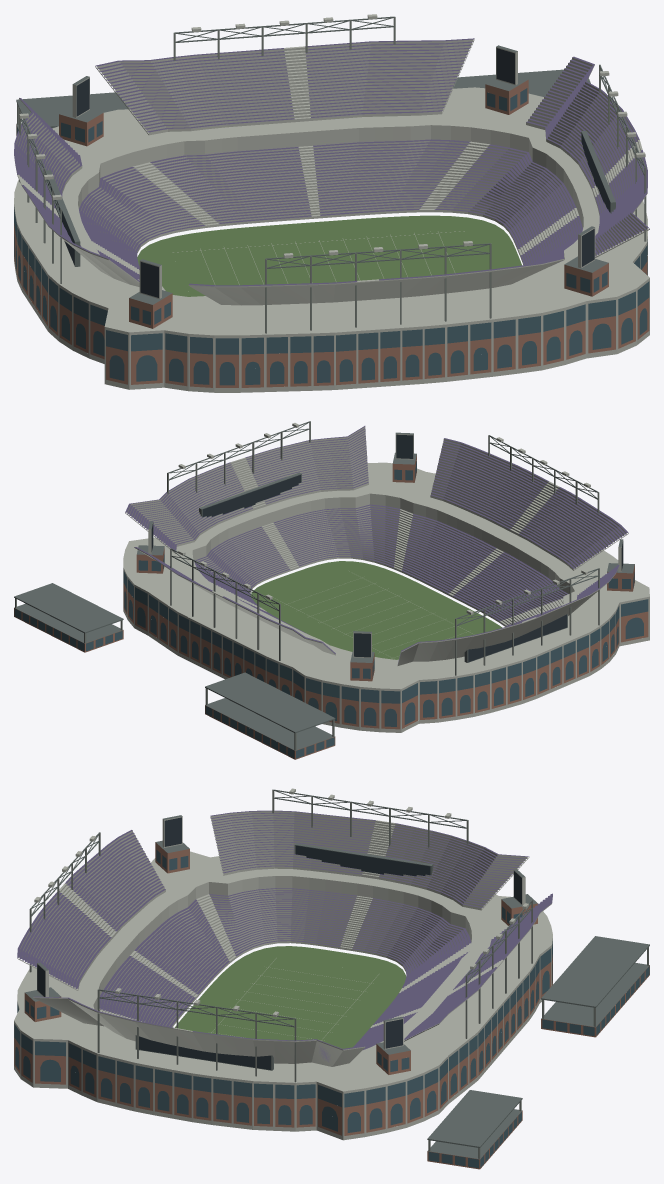
The model's file is mt-bank-stadium-baltimore-near.glb.
The picture shows the model from 3 angles, top to bottom: view 1: azimuth 30°, elevation 25°; view 2: azimuth 150°, elevation 25°; view 3: azimuth 270°, elevation 25°; orthographic projection. The views are drawn at different scales.
Parts seen in each view (by area): view 1: mt-bank-stadium-baltimore-0-stone, mt-bank-stadium-baltimore-0-seat, mt-bank-stadium-baltimore-0-glass, mt-bank-stadium-baltimore-0-grass, mt-bank-stadium-baltimore-0-brick, mt-bank-stadium-baltimore-0-steel, mt-bank-stadium-baltimore-0-column, mt-bank-stadium-baltimore-0-screen; view 2: mt-bank-stadium-baltimore-0-stone, mt-bank-stadium-baltimore-0-seat, mt-bank-stadium-baltimore-0-glass, mt-bank-stadium-baltimore-0-grass, mt-bank-stadium-baltimore-0-steel, mt-bank-stadium-baltimore-0-brick, mt-bank-stadium-baltimore-0-screen, mt-bank-stadium-baltimore-0-column; view 3: mt-bank-stadium-baltimore-0-stone, mt-bank-stadium-baltimore-0-seat, mt-bank-stadium-baltimore-0-glass, mt-bank-stadium-baltimore-0-grass, mt-bank-stadium-baltimore-0-steel, mt-bank-stadium-baltimore-0-brick, mt-bank-stadium-baltimore-0-screen, mt-bank-stadium-baltimore-0-column.
Part boxes in pixels (x1,y1,x2,y2): mt-bank-stadium-baltimore-0-stone: [14, 14, 649, 392]; mt-bank-stadium-baltimore-0-seat: [14, 38, 649, 286]; mt-bank-stadium-baltimore-0-glass: [14, 88, 649, 385]; mt-bank-stadium-baltimore-0-grass: [137, 215, 521, 296]; mt-bank-stadium-baltimore-0-brick: [14, 79, 649, 387]; mt-bank-stadium-baltimore-0-steel: [16, 16, 645, 304]; mt-bank-stadium-baltimore-0-column: [17, 17, 646, 333]; mt-bank-stadium-baltimore-0-screen: [47, 48, 610, 297]; mt-bank-stadium-baltimore-0-stone: [123, 423, 649, 732]; mt-bank-stadium-baltimore-0-seat: [125, 426, 628, 664]; mt-bank-stadium-baltimore-0-glass: [14, 461, 648, 758]; mt-bank-stadium-baltimore-0-grass: [250, 561, 502, 659]; mt-bank-stadium-baltimore-0-steel: [14, 421, 634, 750]; mt-bank-stadium-baltimore-0-brick: [14, 455, 648, 759]; mt-bank-stadium-baltimore-0-screen: [151, 434, 623, 662]; mt-bank-stadium-baltimore-0-column: [15, 421, 599, 750]; mt-bank-stadium-baltimore-0-stone: [14, 788, 552, 1140]; mt-bank-stadium-baltimore-0-seat: [17, 810, 552, 1061]; mt-bank-stadium-baltimore-0-glass: [14, 850, 649, 1168]; mt-bank-stadium-baltimore-0-grass: [175, 946, 406, 1048]; mt-bank-stadium-baltimore-0-steel: [25, 789, 649, 1159]; mt-bank-stadium-baltimore-0-brick: [14, 842, 649, 1169]; mt-bank-stadium-baltimore-0-screen: [37, 817, 521, 1069]; mt-bank-stadium-baltimore-0-column: [29, 789, 648, 1158].
Bounding box in the file's own units: 287 × 56.38 × 283.
